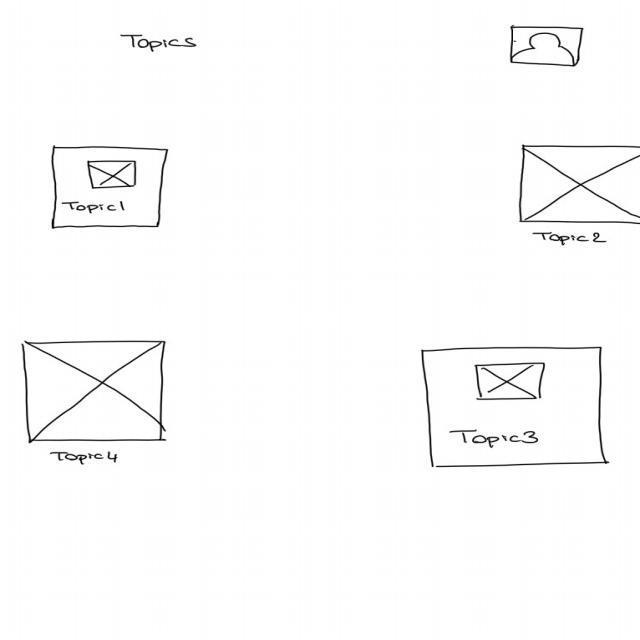container: (420, 346, 610, 469), (49, 145, 169, 231)
image: (22, 340, 168, 445), (518, 144, 640, 225), (507, 24, 587, 69), (474, 362, 550, 402), (86, 159, 140, 191)
label: (449, 428, 541, 452), (118, 33, 202, 54), (531, 231, 612, 250), (49, 452, 121, 467), (62, 201, 130, 216)
